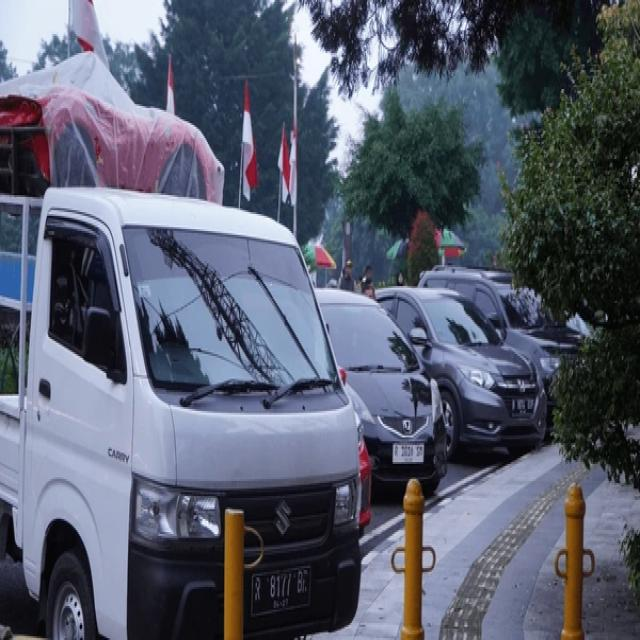honda: (401, 418, 414, 438), (516, 379, 531, 394)
suzuki: (272, 497, 297, 548)
